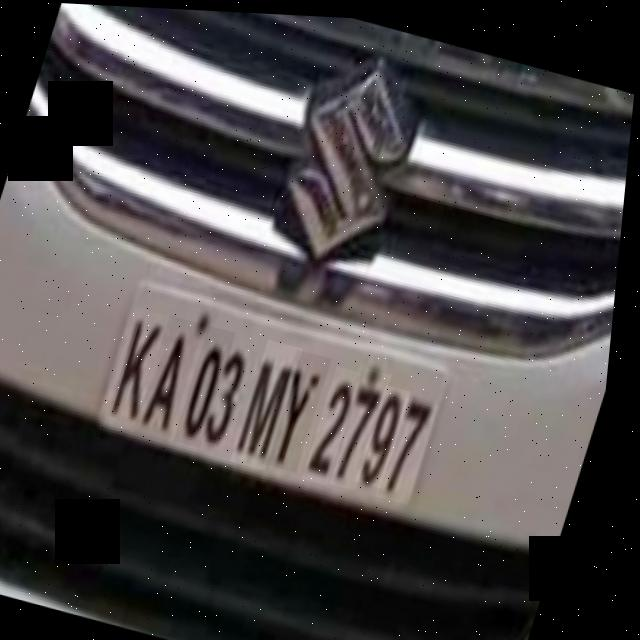0: (181, 322, 242, 446)
3: (208, 330, 266, 446)
7: (339, 362, 398, 487), (384, 392, 447, 501)
9: (364, 379, 418, 484)
A: (141, 312, 210, 441)
K: (108, 304, 179, 429)
M: (239, 335, 309, 468)
Y: (270, 344, 339, 470), (310, 361, 369, 482)
